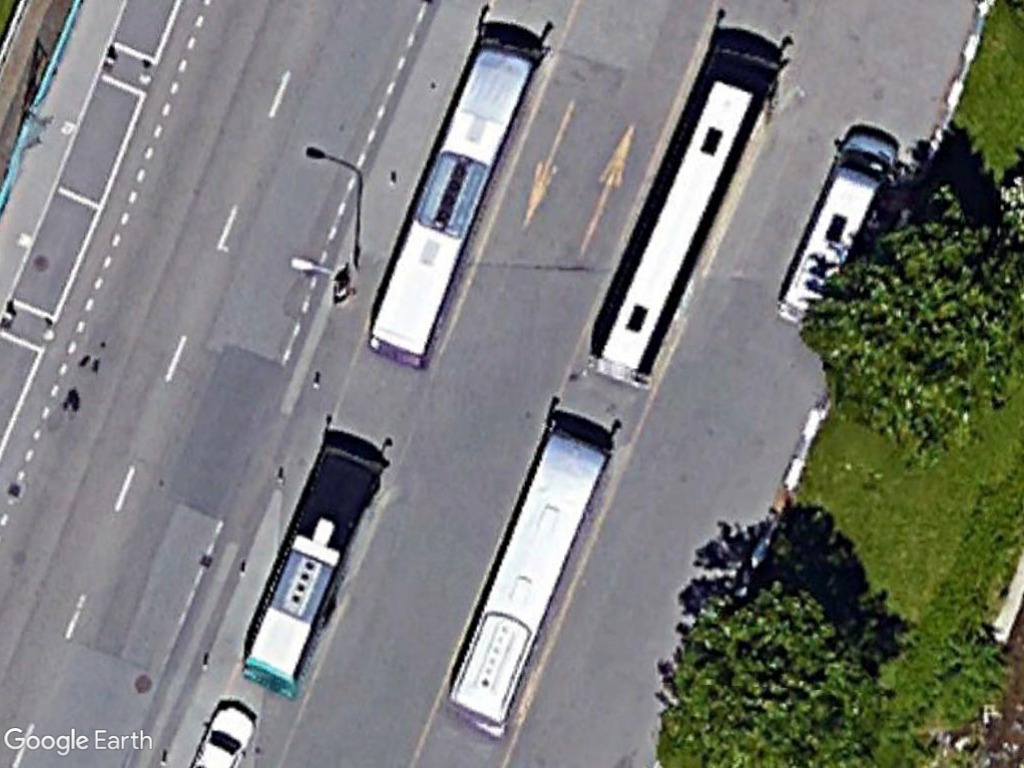bus: (590, 40, 790, 393), (360, 27, 543, 366), (449, 409, 620, 737), (243, 437, 390, 695)
